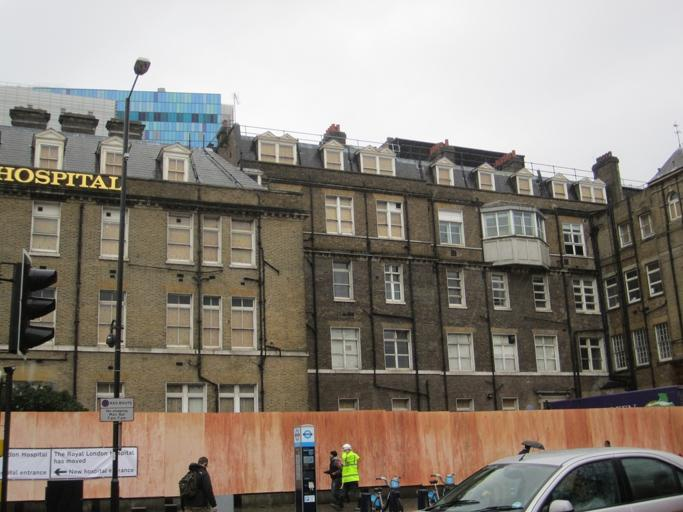non-vehicle: (355, 475, 401, 512), (422, 471, 455, 507)
